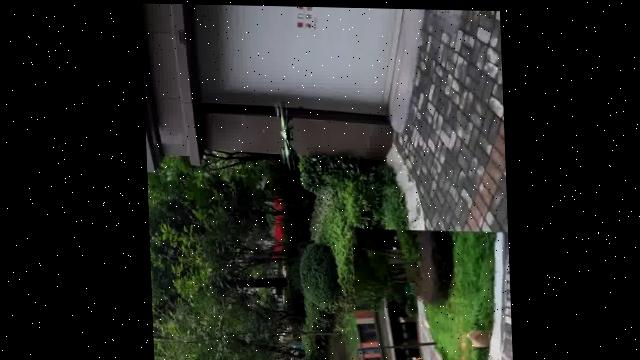drone: (267, 99, 305, 167)
